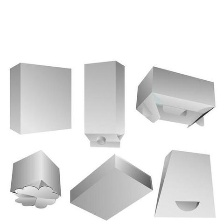book: (65, 149, 157, 223), (131, 63, 219, 132), (3, 57, 75, 139), (148, 146, 219, 224), (77, 56, 128, 153), (6, 146, 64, 213)
